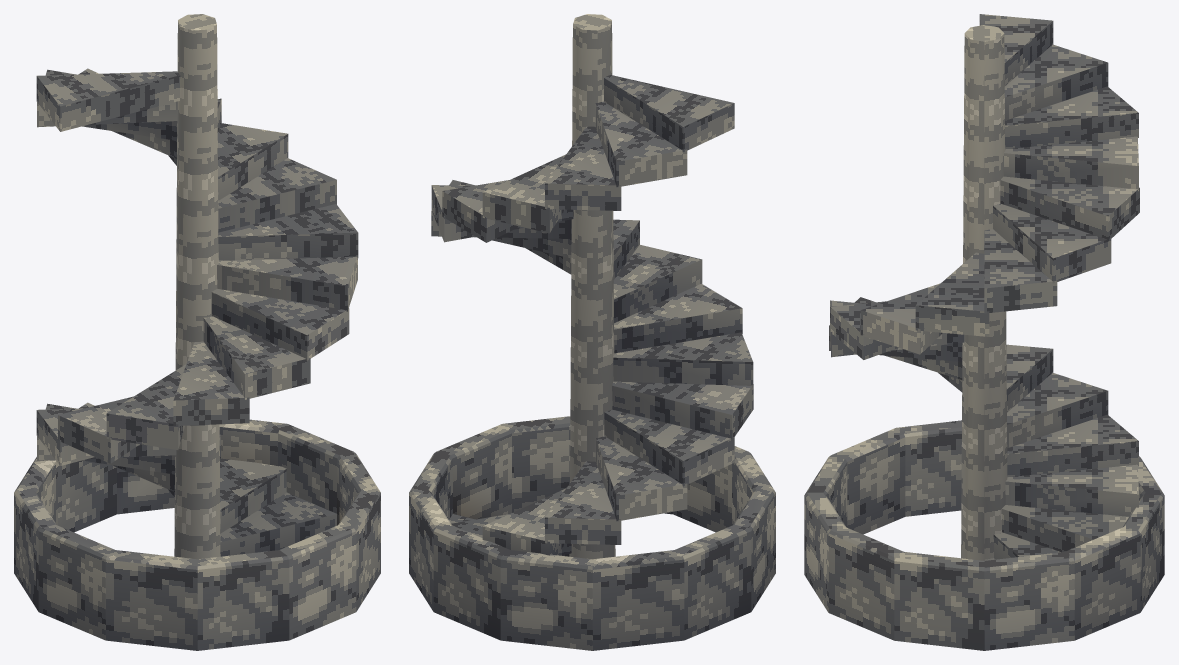
Rendered from cst.spiral_stair__tall.glb.
3 renders of one model, left to right at view 1: azimuth 30°, elevation 25°; view 2: azimuth 150°, elevation 25°; view 3: azimuth 270°, elevation 25°, orthographic.
Visible parts, largest first — view 1: kit_steps, kit_drum, kit_newel; view 2: kit_steps, kit_drum, kit_newel; view 3: kit_steps, kit_drum, kit_newel.
Part boxes in pixels (left/top/right/bottom): kit_steps: left=36, top=68, right=358, bottom=556; kit_drum: left=14, top=419, right=380, bottom=650; kit_newel: left=174, top=14, right=220, bottom=559; kit_steps: left=431, top=75, right=753, bottom=556; kit_drum: left=409, top=416, right=775, bottom=650; kit_newel: left=569, top=14, right=615, bottom=559; kit_steps: left=829, top=14, right=1139, bottom=560; kit_drum: left=804, top=420, right=1164, bottom=650; kit_newel: left=961, top=25, right=1007, bottom=560.
Bounding box in the file's own units: 3.98 × 6.6 × 3.98.
Materials: 3 (3 with a texture image).
